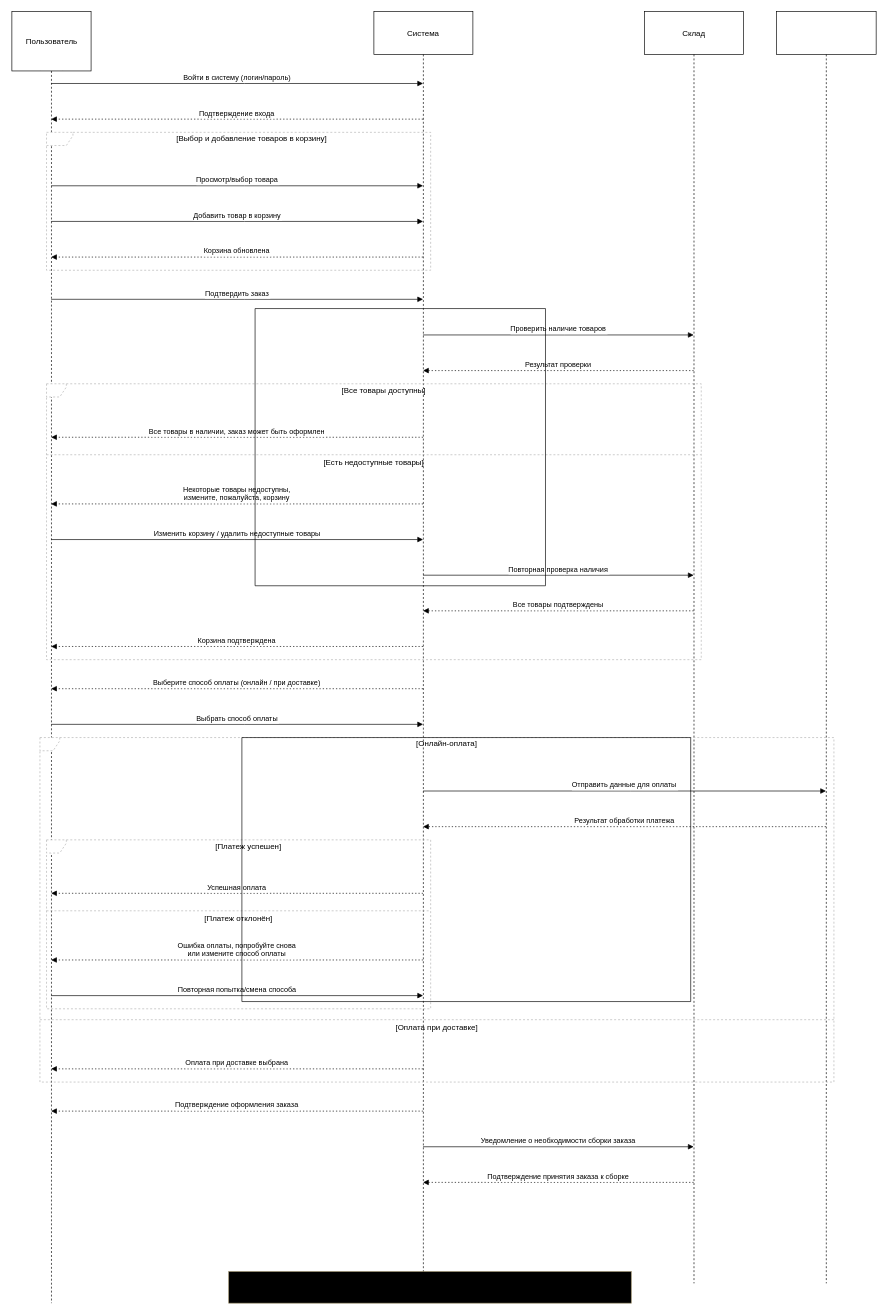
Image size: 888x1315. Some labels were removed from this diagram. Here are the shapes that lost their labels. From the top down, the box of each, then its label:
(776, 11, 876, 1283): Платежный шлюз
(228, 1271, 631, 1303): Процесс оформления заказа завершён
